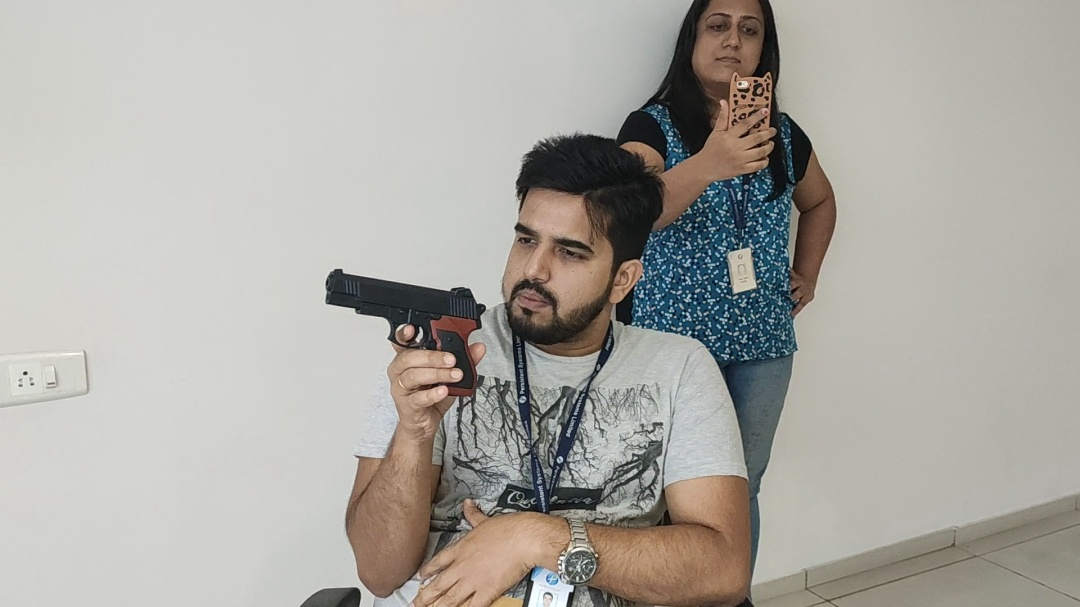gun: (324, 269, 487, 397)
